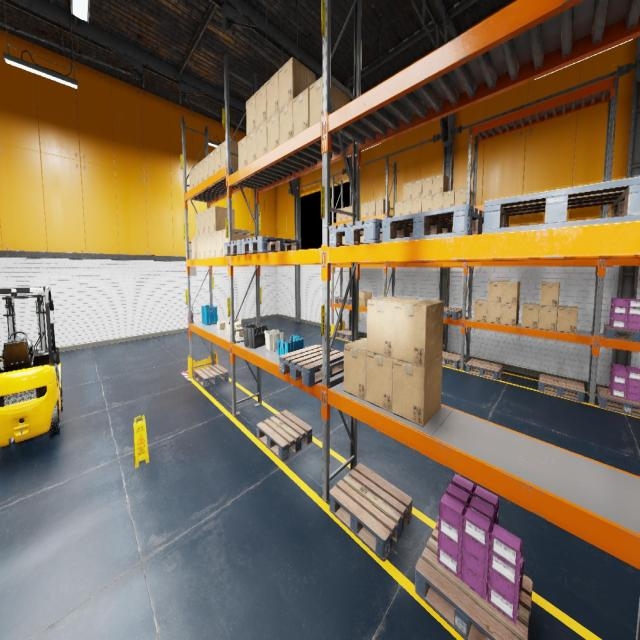box: (392, 355, 442, 427), (393, 298, 444, 366), (367, 296, 413, 358), (309, 75, 350, 126), (278, 56, 316, 110), (366, 351, 393, 412), (344, 337, 366, 401), (293, 87, 309, 136), (222, 228, 249, 256), (209, 206, 235, 232), (266, 70, 279, 119), (279, 100, 293, 144), (556, 305, 578, 333), (220, 139, 238, 169), (267, 110, 279, 152), (540, 282, 560, 307), (538, 306, 558, 330), (256, 82, 266, 128), (522, 303, 540, 328), (501, 302, 519, 326), (246, 93, 256, 135), (256, 120, 267, 158), (502, 281, 520, 303), (473, 299, 488, 322), (454, 187, 472, 206), (488, 281, 504, 302), (432, 174, 448, 194), (247, 129, 256, 164), (487, 302, 501, 324), (238, 136, 247, 170), (442, 190, 454, 208), (358, 291, 372, 306), (376, 198, 389, 214), (214, 144, 221, 172), (422, 177, 432, 196), (412, 179, 422, 198), (432, 192, 442, 210), (422, 195, 432, 212), (216, 229, 222, 257), (403, 182, 412, 200), (412, 198, 422, 214), (402, 199, 412, 215), (208, 150, 214, 176), (204, 208, 210, 234), (203, 155, 209, 180), (210, 232, 216, 257), (194, 213, 200, 236), (394, 201, 403, 216), (227, 326, 240, 336), (228, 318, 242, 327), (216, 320, 228, 330), (205, 233, 210, 257), (368, 200, 375, 217), (198, 160, 203, 183), (200, 235, 205, 258), (361, 202, 368, 218), (189, 168, 194, 190), (191, 237, 196, 258), (200, 210, 204, 236), (225, 321, 236, 330), (194, 164, 198, 186), (196, 236, 200, 258), (342, 207, 348, 221), (336, 208, 342, 222), (236, 327, 243, 337), (348, 206, 352, 220), (360, 236, 364, 242), (342, 236, 345, 243), (361, 204, 361, 217)
forklift: (0, 286, 63, 446)
pallets: (414, 520, 532, 639), (483, 176, 640, 233), (329, 464, 412, 562), (382, 204, 484, 242), (257, 410, 312, 461), (279, 344, 344, 386), (329, 218, 382, 247), (596, 387, 640, 418), (538, 374, 585, 402), (242, 236, 300, 253), (466, 358, 502, 380), (194, 364, 228, 387), (603, 324, 640, 342), (224, 240, 246, 255), (442, 351, 460, 368), (443, 307, 462, 319), (336, 330, 351, 340), (335, 297, 351, 304)
